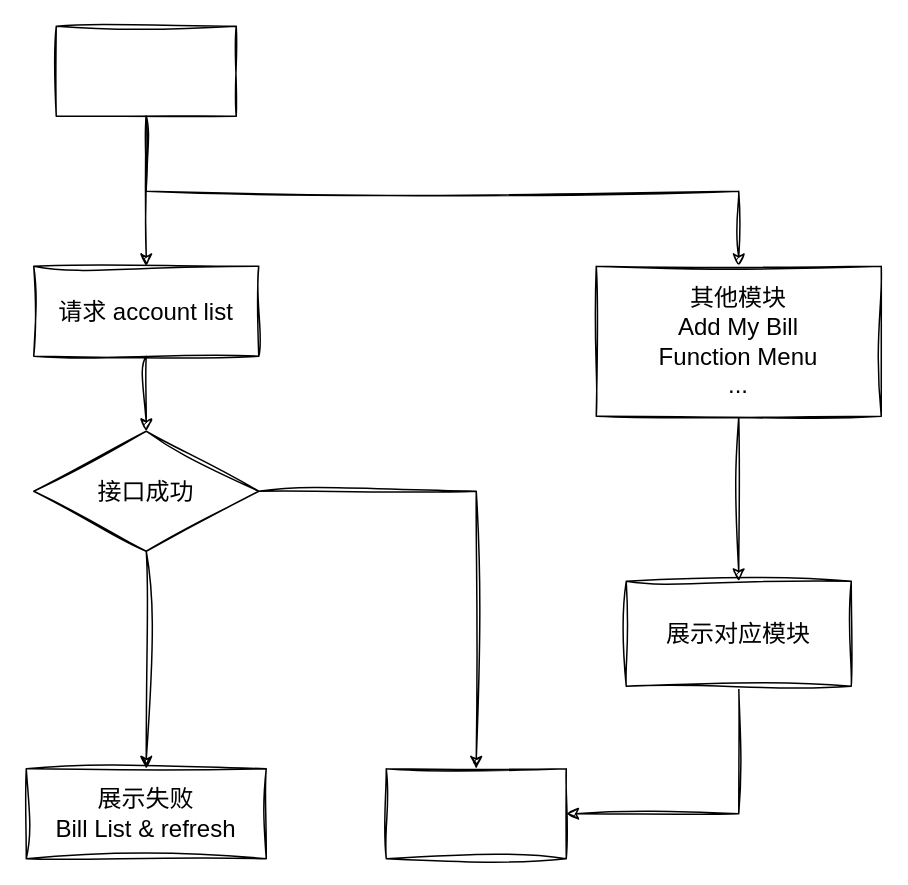
The diagram is 908 pixels wide and 885 high, and some of its shapes have lost their labels. Each missing label, with the centre of its shape:
"展示 Bill List" goes at point 475,813.
"打开页面" goes at point 145,70.
